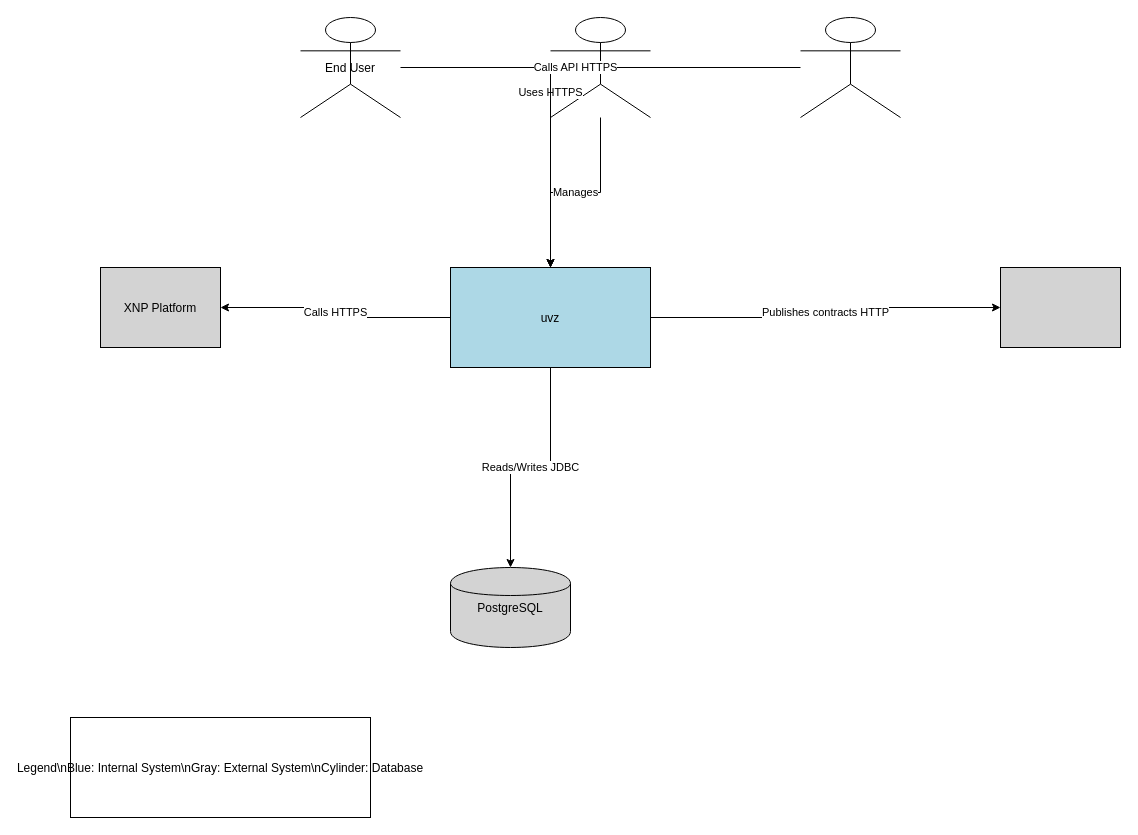
Image size: 1138x835. Some labels were removed from this diagram. Here are the shapes that lost their labels. From the top down, the centre of each, then its label:
the point at 600,67: Administrator
the point at 850,67: API Consumer
the point at 1060,307: Pact Broker
